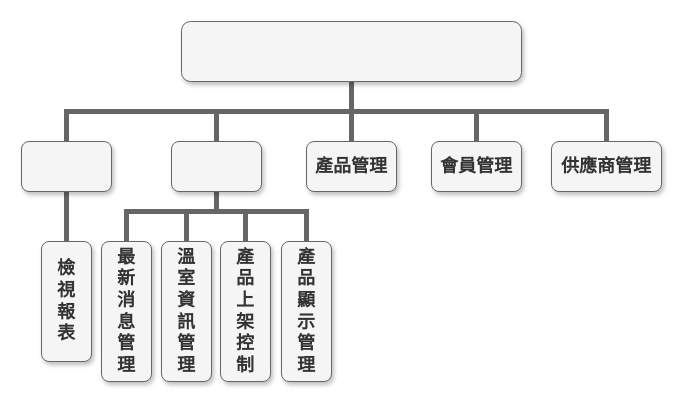
Some shapes in this 685 by 406 pixel diagram are drawn without their labels. Each missing label, with the centre of its shape:
FarmIn管理主控台: [352,52]
報表管理: [67,167]
網路行銷: [217,167]
